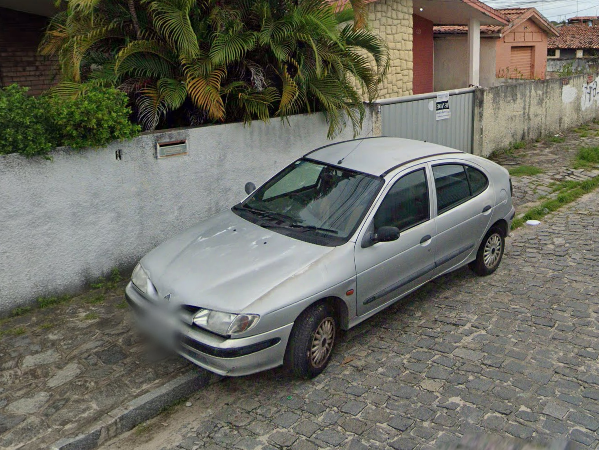car: (123, 136, 517, 385)
